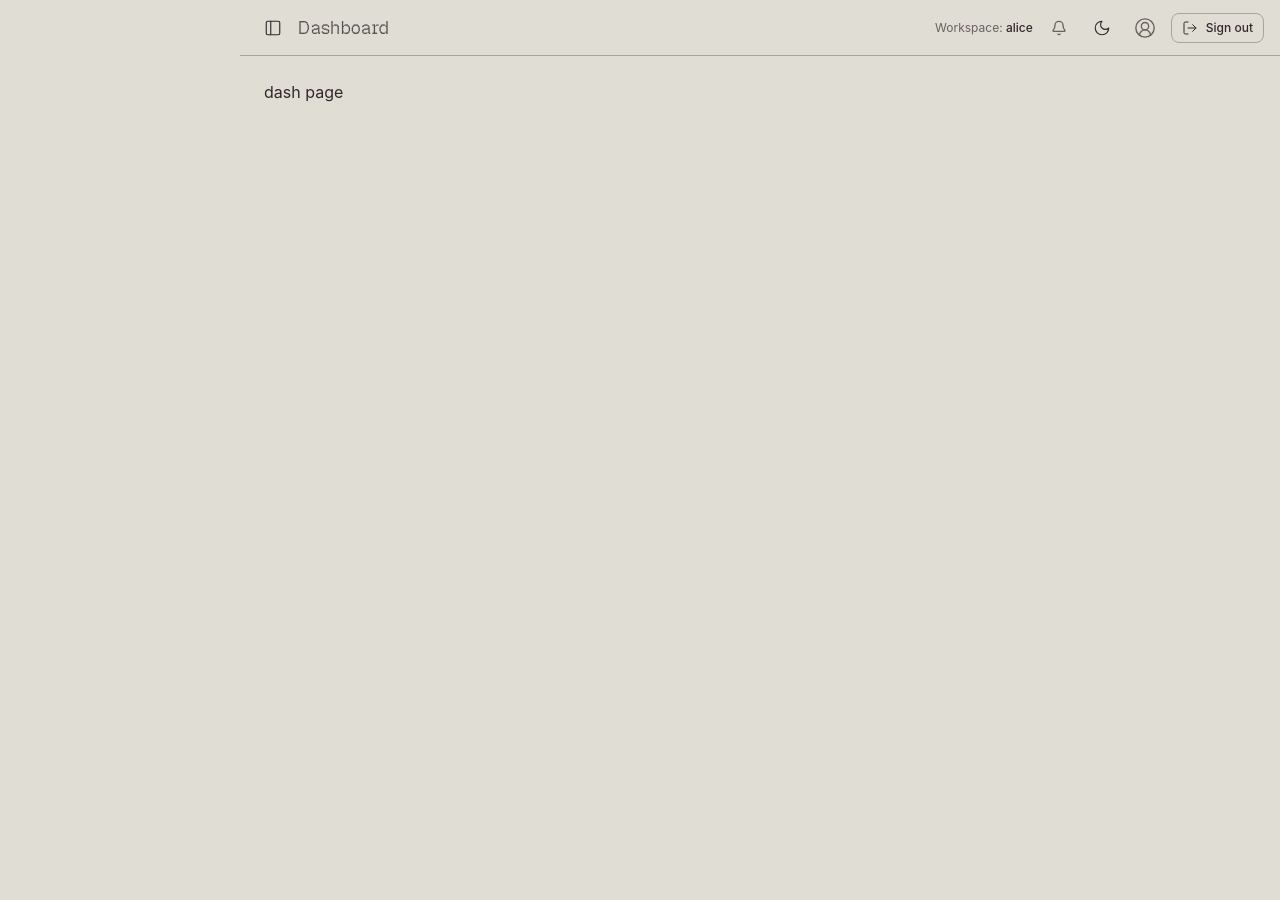
it: AppLayout — Learn more menu › mobile: the entry expands in place when tapped and a link closes the drawer
Expected: the text "alice" is shown, [1006,20,1033,34]
Click the button named "Open sidebar" at (273, 28), box [256,10,290,44]
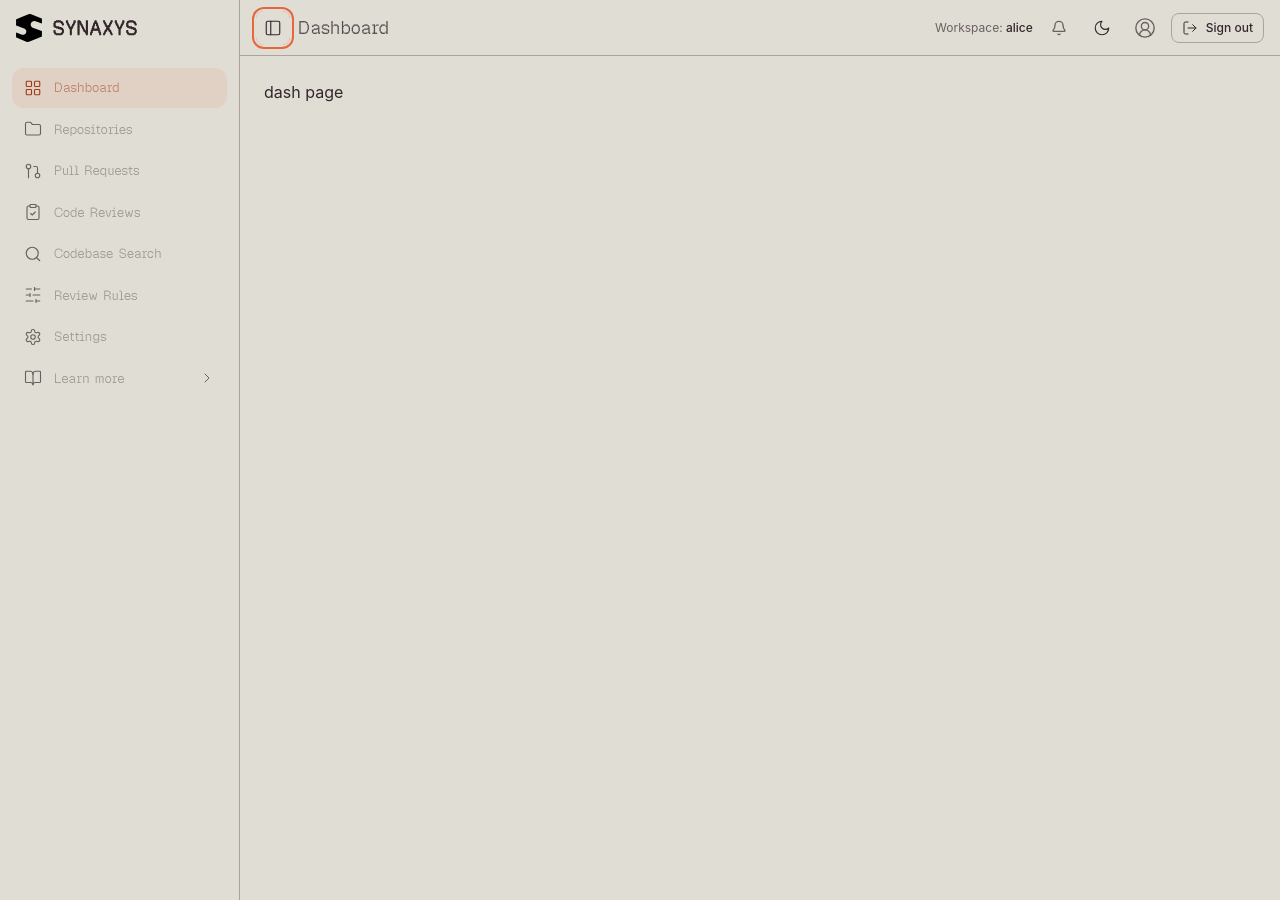
Click the button "Learn more" at (120, 378), box [12,358,227,398]
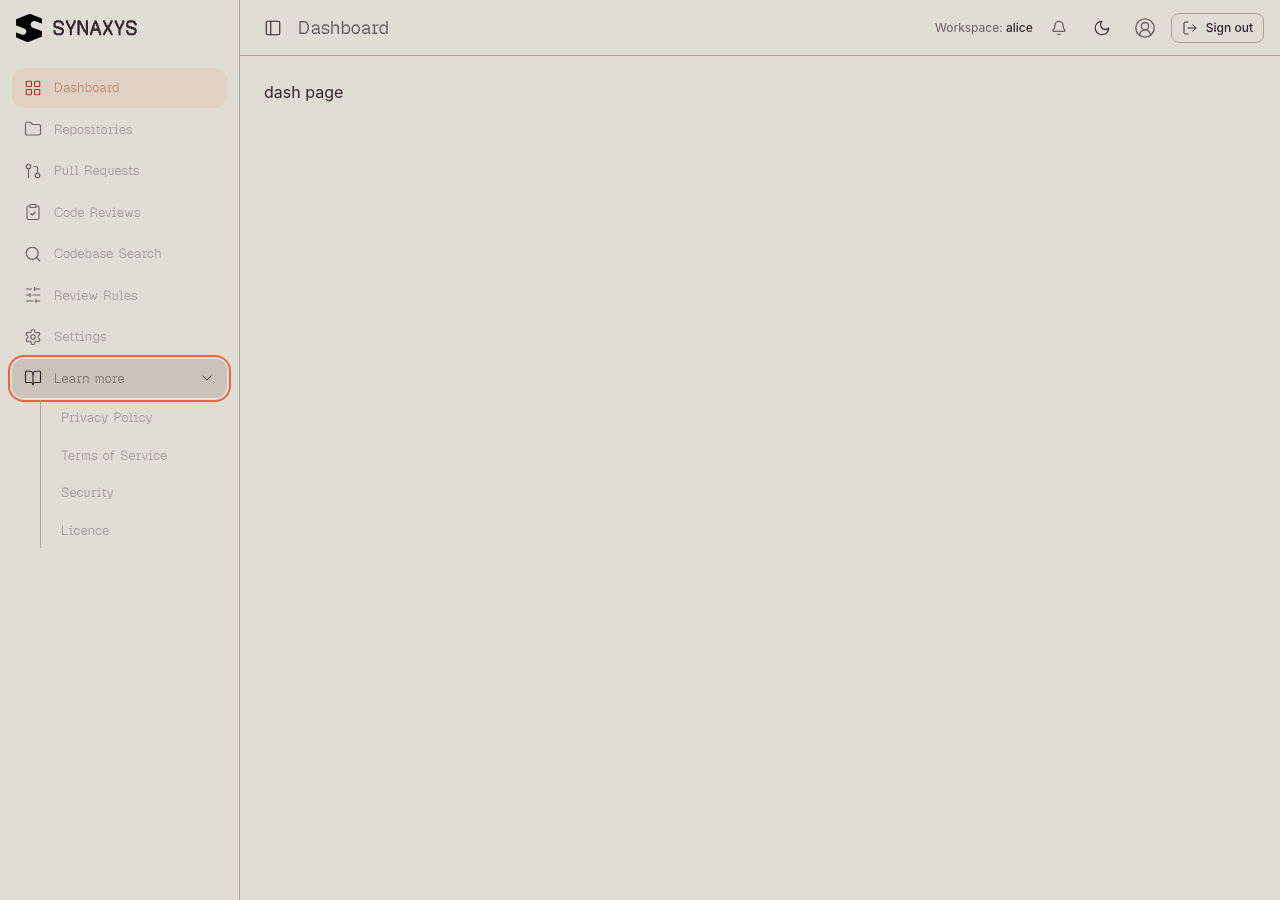
Now the number of links "Privacy Policy" is 4, box [61,409,153,426]; [61,446,167,464]; [61,484,114,501]; [61,522,109,538]
Click the button "Learn more" at (120, 378), box [12,358,227,398]
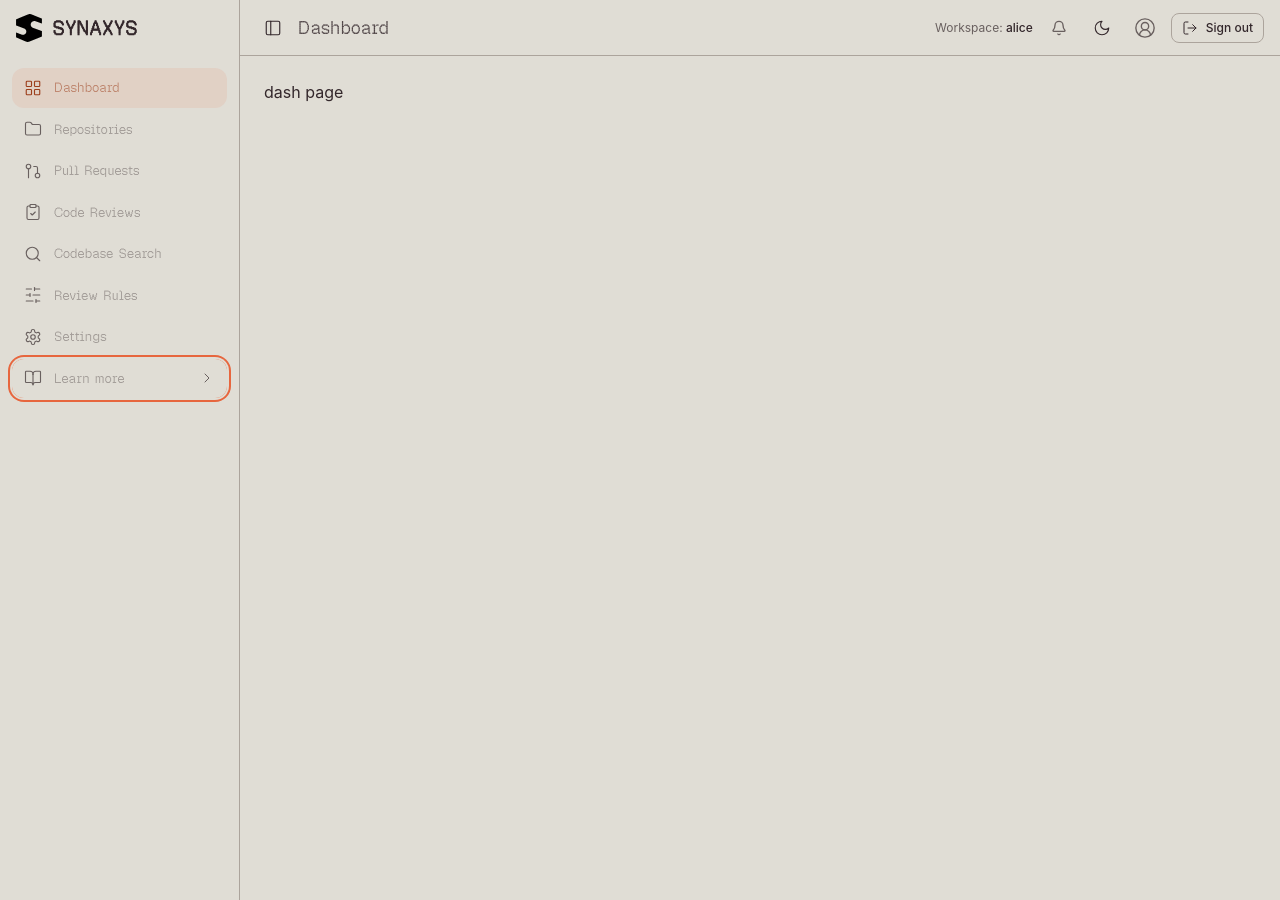
Now the link "Privacy Policy" is gone
